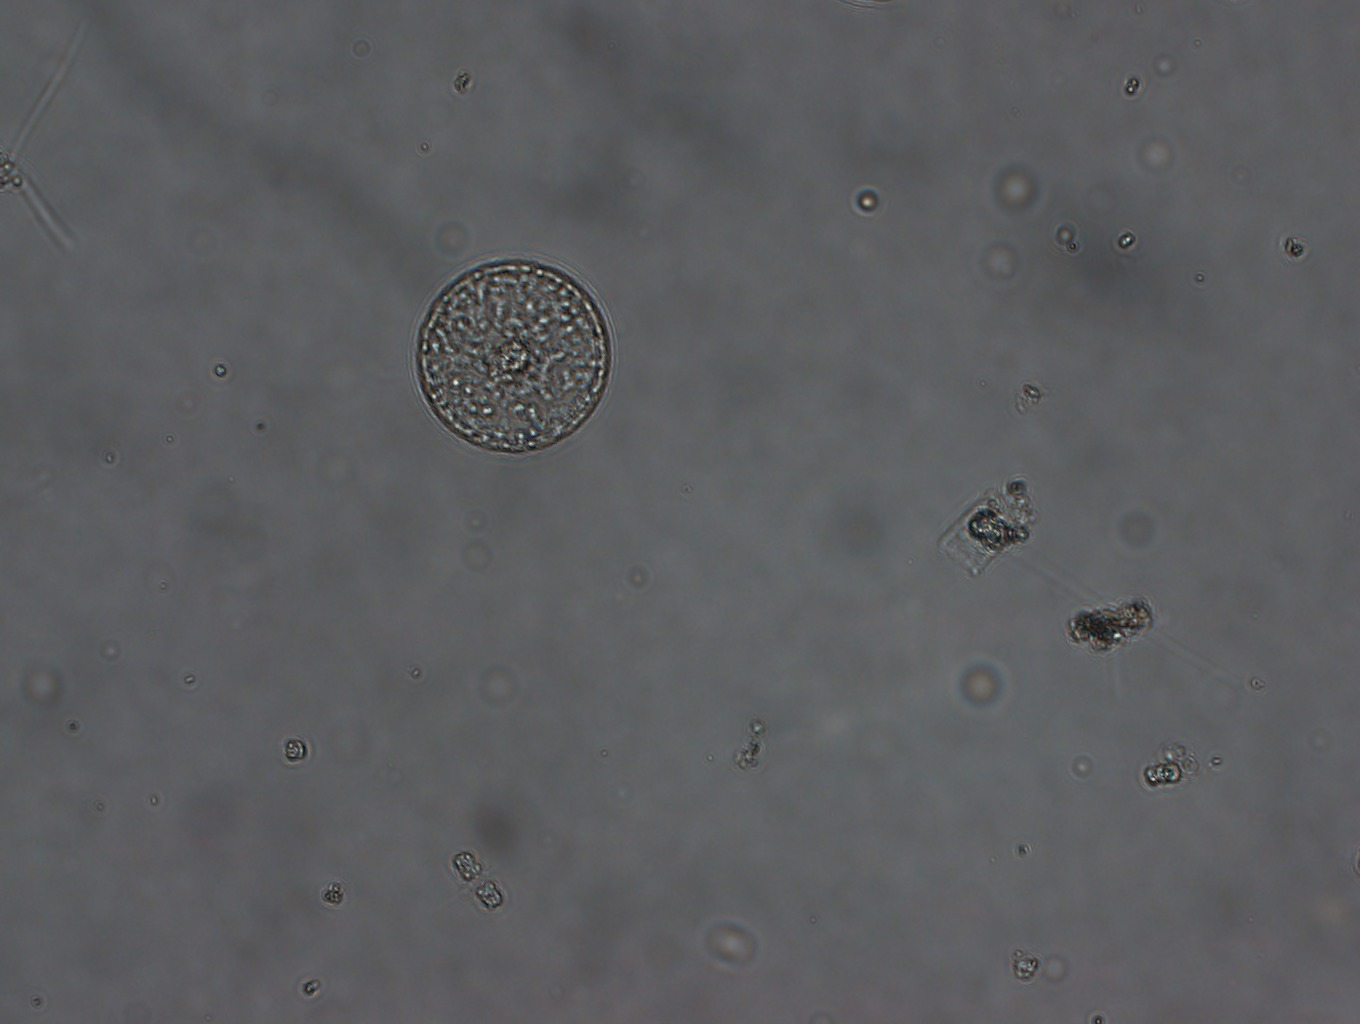coscinodiscus: (409, 253, 617, 458)
